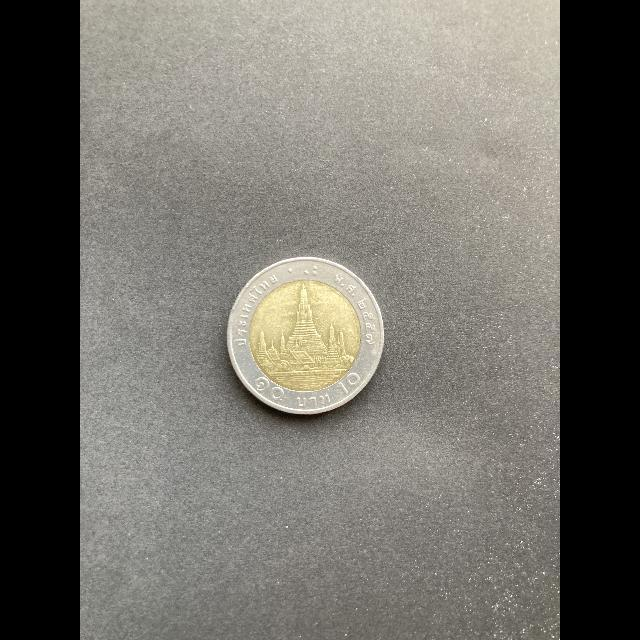10 Bath: (223, 257, 388, 419)
